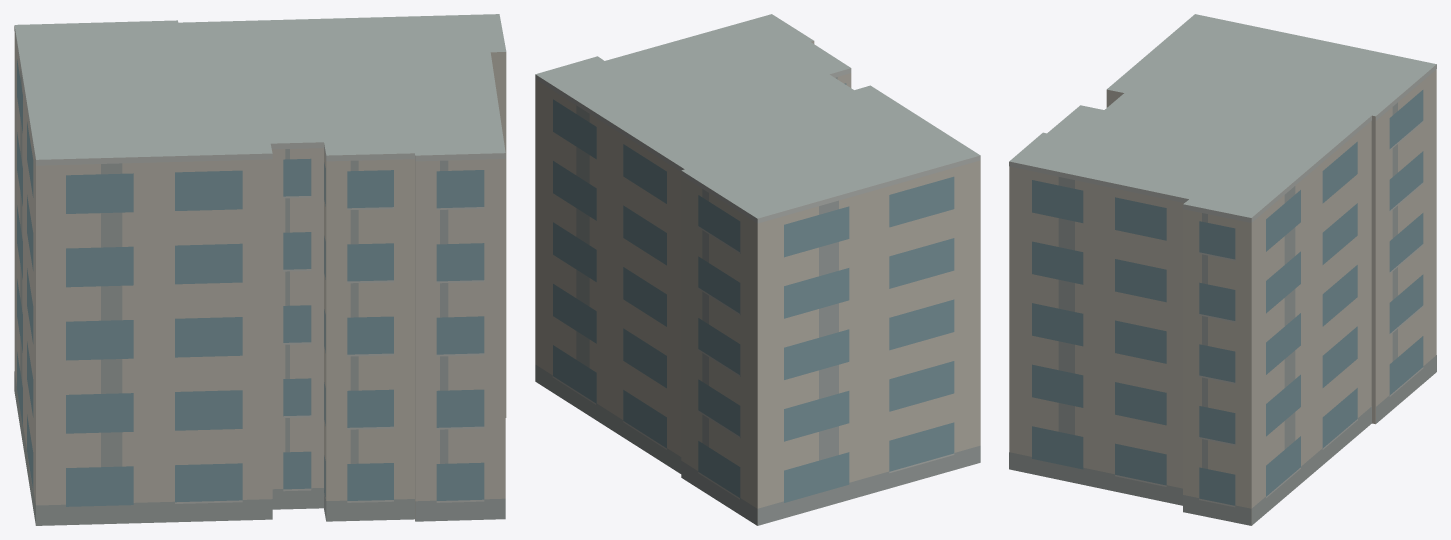
The model's file is survey-upis-33040528.glb.
3 views of the same model, side by side, from view 1: azimuth 30°, elevation 25°; view 2: azimuth 150°, elevation 25°; view 3: azimuth 270°, elevation 25° (orthographic). The views are drawn at different scales.
Visible parts, largest first — view 1: survey-upis-33040528.tmp; view 2: survey-upis-33040528.tmp; view 3: survey-upis-33040528.tmp.
Part boxes in pixels (left/top/right/bottom): survey-upis-33040528.tmp: left=14, top=14, right=506, bottom=525; survey-upis-33040528.tmp: left=535, top=14, right=980, bottom=525; survey-upis-33040528.tmp: left=1009, top=14, right=1436, bottom=525.
Bounding box in the file's own units: 21.68 × 15.25 × 19.2.
